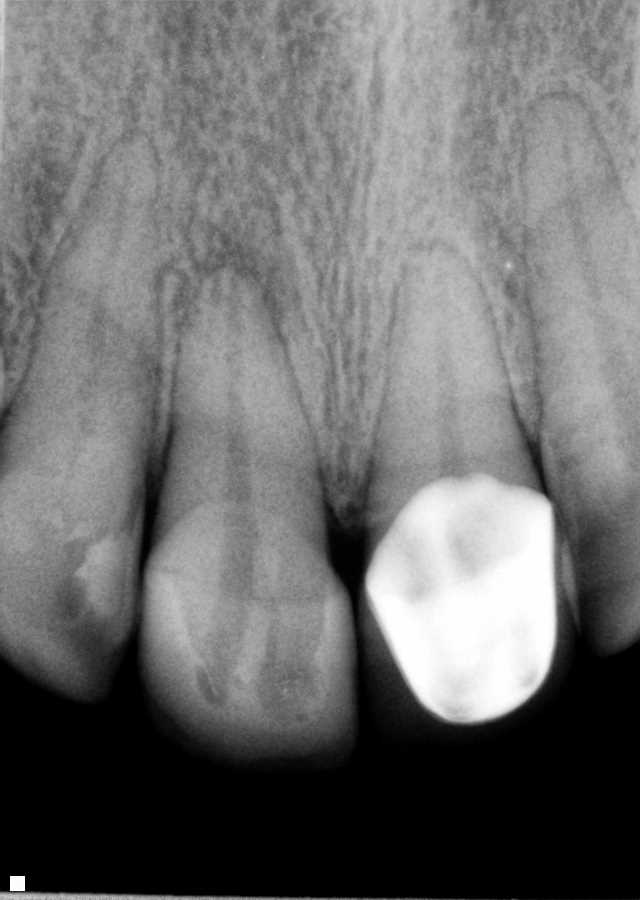Apical Lesion: (170, 201, 289, 322)
Main Canal: (551, 108, 640, 440), (72, 154, 131, 461), (221, 281, 263, 546), (434, 258, 468, 494)
Main Root: (7, 136, 161, 481), (155, 272, 330, 561), (364, 244, 533, 513), (521, 90, 640, 448)
decay: (568, 480, 633, 619)
